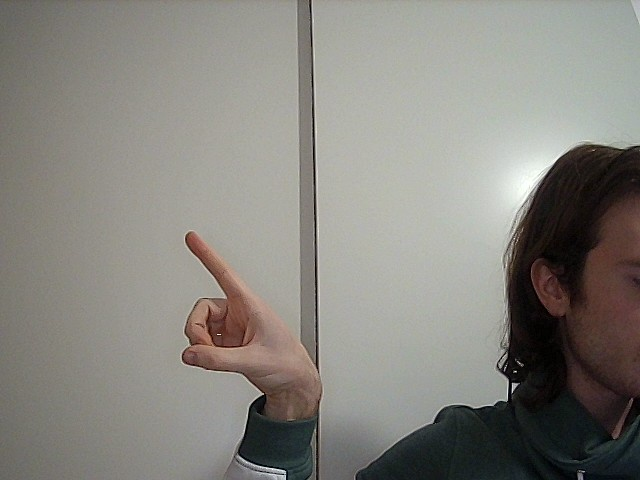d: (126, 206, 336, 402)
